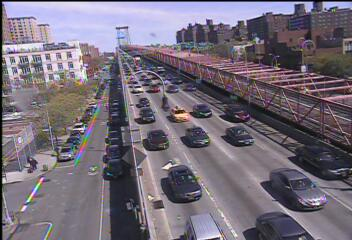neg: (172, 15, 205, 58), (61, 34, 81, 61), (112, 17, 131, 44), (153, 82, 171, 107), (240, 19, 258, 44), (215, 164, 233, 188), (35, 12, 53, 36), (66, 128, 84, 151), (140, 13, 157, 35), (140, 133, 154, 151), (151, 193, 164, 211), (5, 204, 18, 222), (299, 41, 312, 58), (234, 104, 246, 120)
pos: (27, 155, 40, 172)
